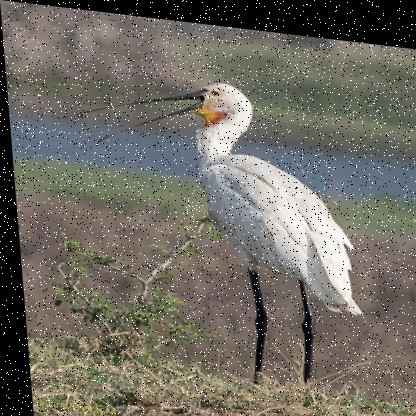Burung: (72, 63, 359, 386)
